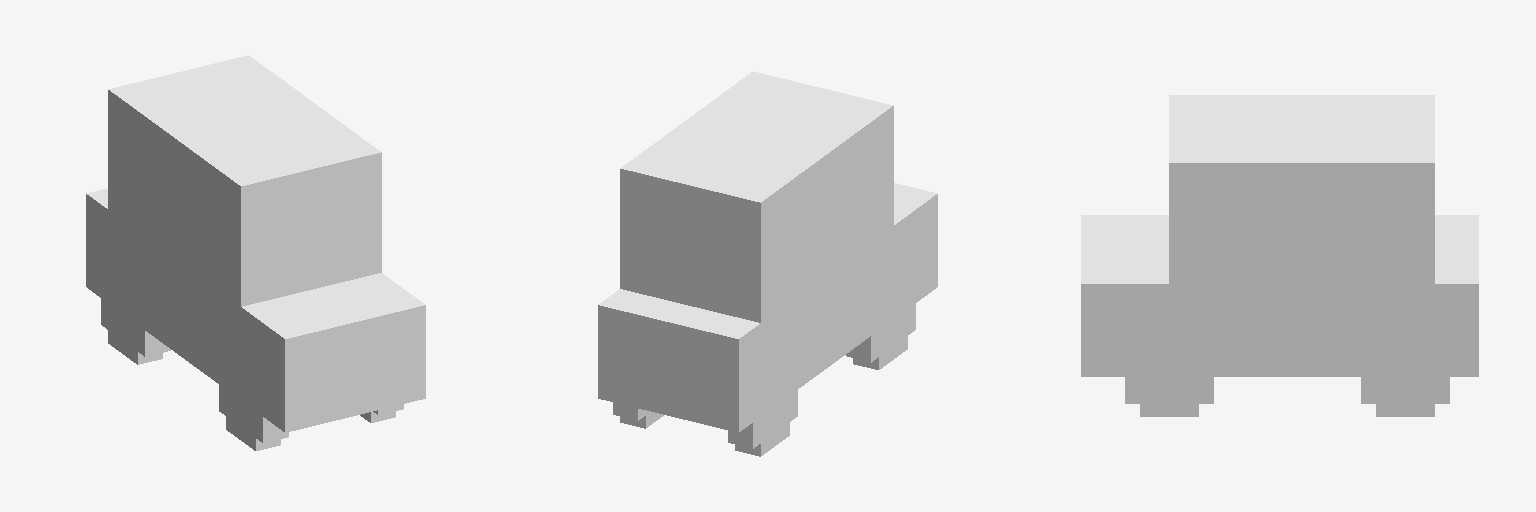
The model's file is standard_yellow.obj.
The picture shows the model from 3 angles: view 1: azimuth 30°, elevation 25°; view 2: azimuth 150°, elevation 25°; view 3: azimuth 270°, elevation 25°; orthographic projection.
Visible parts, largest first — view 1: standard_yellow; view 2: standard_yellow; view 3: standard_yellow.
Part boxes in pixels (x1,y1,x2,y2): standard_yellow: (86,55,425,450); standard_yellow: (598,71,937,456); standard_yellow: (1081,95,1478,416).
Bounding box in the file's own units: 11 × 19 × 27.